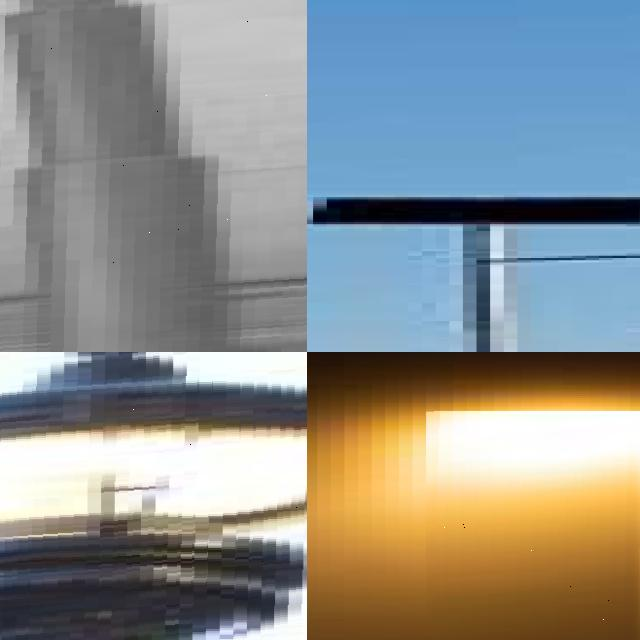street light: (0, 0, 307, 352), (0, 352, 307, 640), (426, 411, 640, 640), (476, 246, 640, 352)
